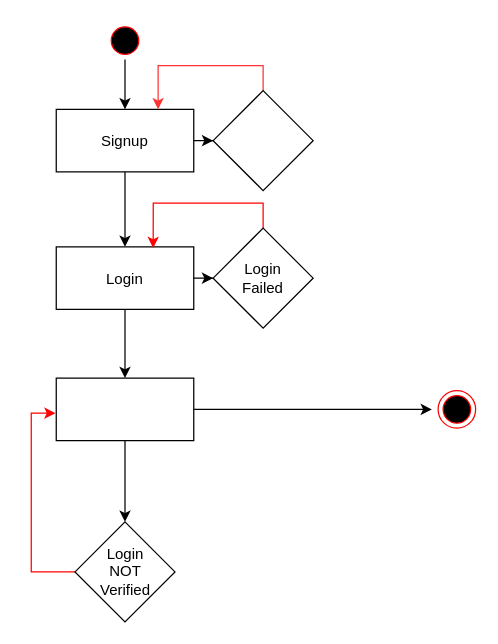
Image size: 498x644. Some labels were removed from this diagram. Here are the shapes that lost their labels. From the top down, the centre of each, then its label:
At pixel 262 140: "Signup Failed".
At pixel 124 409: "Verify Login".
